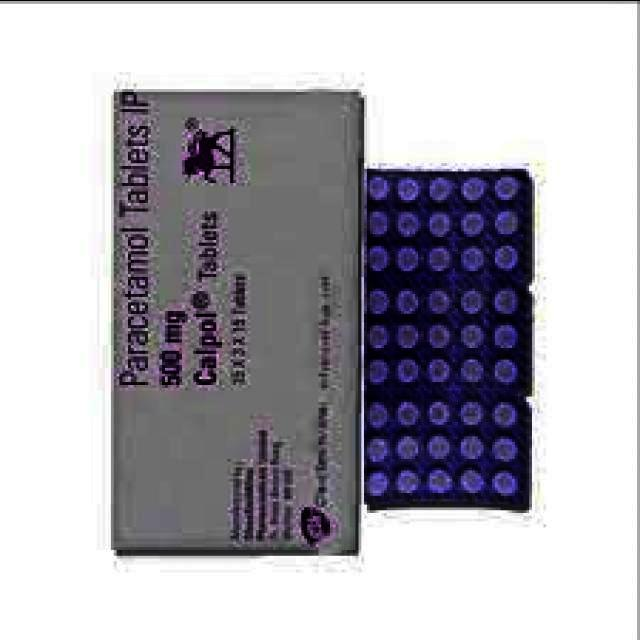authentic: (98, 80, 370, 570), (358, 157, 539, 522)
